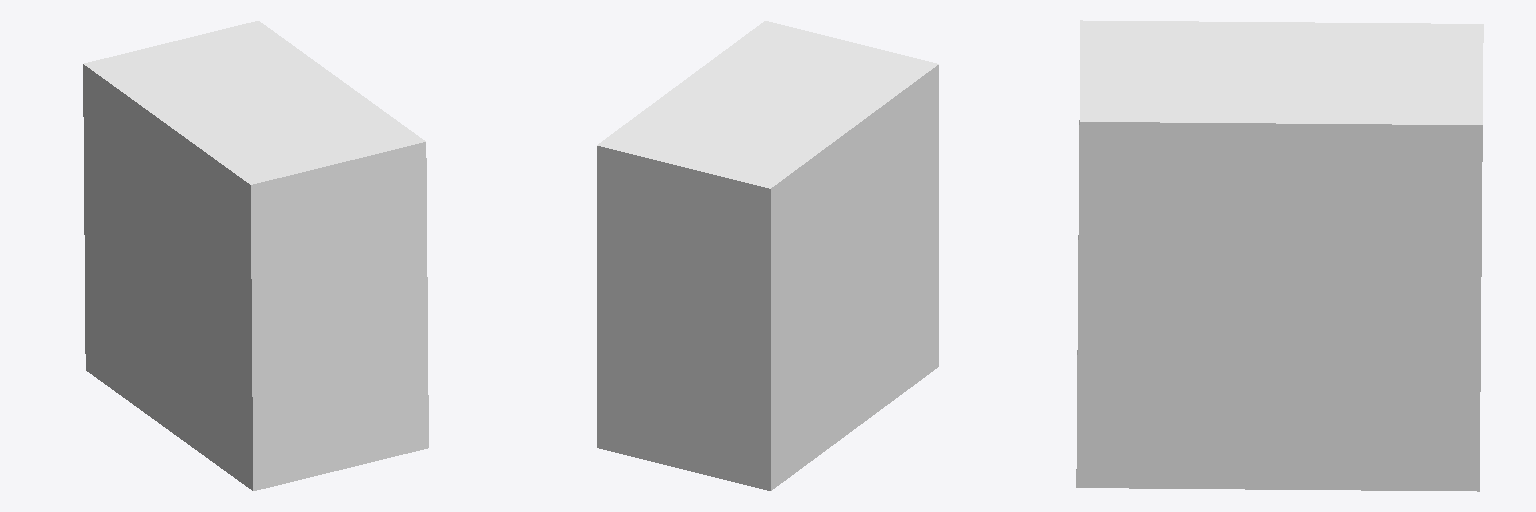
robot.urdf — cube_10_6_6:
<?xml version="1.0" ?>
<robot name="cube_10_6_6">
 
  <link name="baseLink">
    <contact>
    	<friction_anchor/>
    	   <lateral_friction value="1.0"/>
    </contact>
    <inertial>
      <origin rpy="0 0 0" xyz="0 0 0"/>
       <mass value=".1"/>
       <inertia ixx="1" ixy="0" ixz="0" iyy="1" iyz="0" izz="1"/>
    </inertial>
    <visual>
      <origin rpy="0 0 0" xyz="0 0 0"/>
      <geometry>
				<mesh filename="cube_10_6_6.obj" scale=".1 .1 .1"/>
      </geometry>
       <material name="white">
        <color rgba="1 1 1 1"/>
      </material>
    </visual>
    <collision>
      <origin rpy="0 0 0" xyz="0 0 0"/>
      <geometry>
	 	<box size="1 1 1"/>
      </geometry>
    </collision>
  </link>
</robot>

--- Render facts (derived) ---
The picture shows the robot from 3 angles, left to right: view 1: azimuth 30°, elevation 25°; view 2: azimuth 150°, elevation 25°; view 3: azimuth 270°, elevation 25°; orthographic projection.
Model cube_10_6_6 with 1 links and 0 joints (none), rooted at baseLink, posed every joint at zero.
Visible links, largest first — view 1: baseLink; view 2: baseLink; view 3: baseLink.
Link boxes in pixels (x1=…): baseLink: x1=83, y1=21, x2=428, y2=490; baseLink: x1=597, y1=21, x2=938, y2=490; baseLink: x1=1076, y1=20, x2=1483, y2=491.
Size in the robot's own frame: 0.0729 by 0.1212 by 0.1213 metres.
1 mesh visuals loaded from 1 distinct referenced files (1 OBJ).